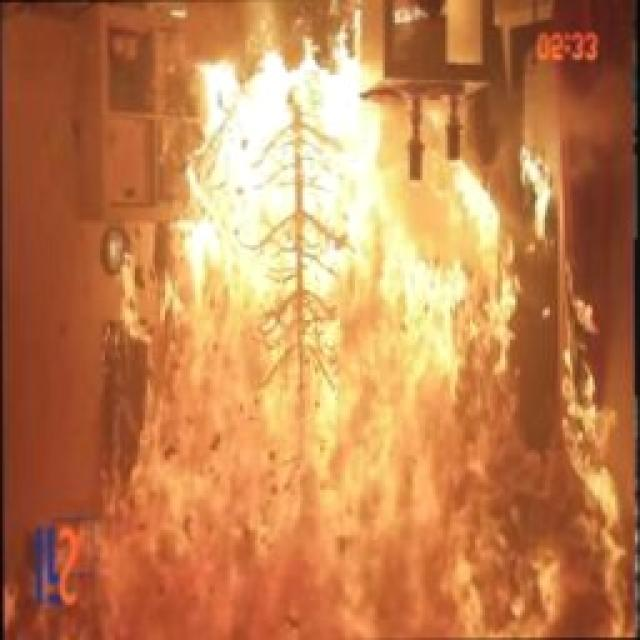fire: (11, 65, 606, 637)
